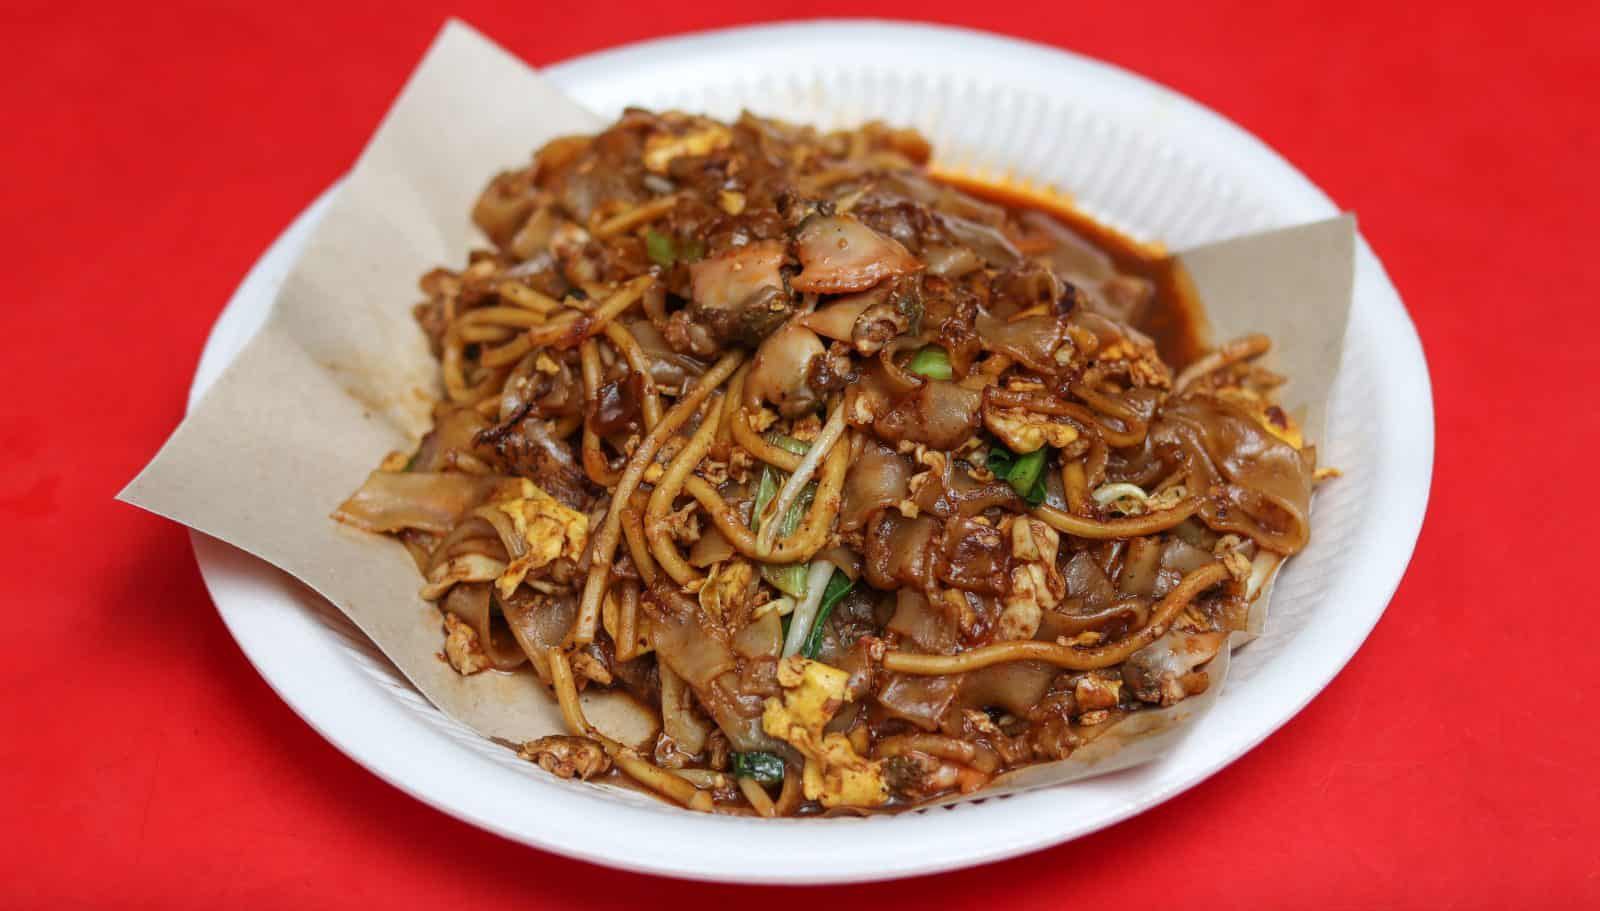Char Kway Teow: (367, 65, 1336, 816)
